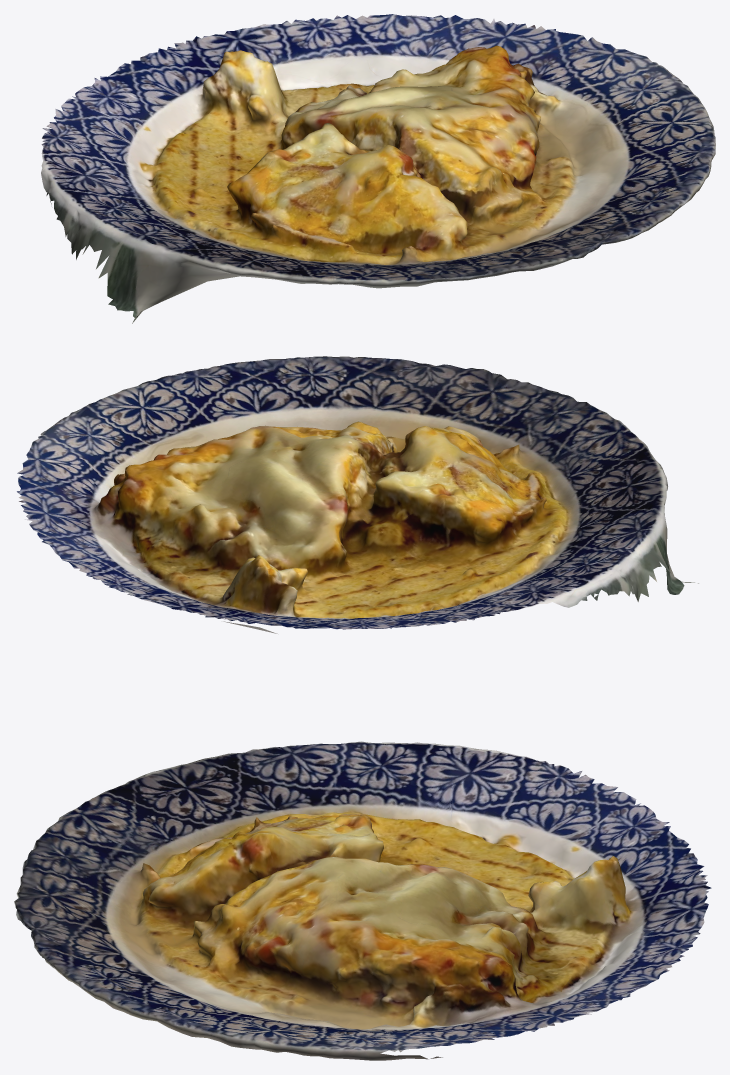
The model's file is pechuga-napolitana.glb.
The picture shows the model from 3 angles, top to bottom: view 1: azimuth 30°, elevation 25°; view 2: azimuth 150°, elevation 25°; view 3: azimuth 270°, elevation 25°; orthographic projection. The views are drawn at different scales.
Size of the model in its own units: 0.2579 by 0.0407 by 0.2345.
1 material, 1 textured.
